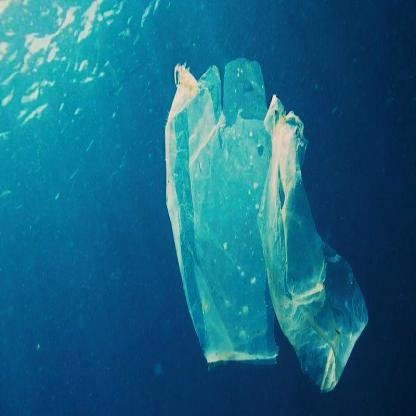pbag: (157, 48, 282, 382), (256, 91, 372, 390)
